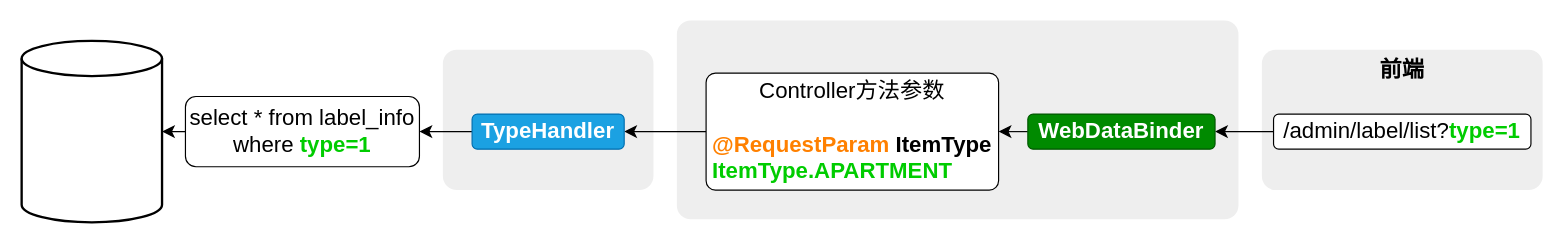
This 1562x243 diagram has some shape labels left out. The box of each missing label's shape, as (x1, y1, x2, y2) in pixels:
MybatisPlus: (442, 49, 653, 190)
SpirngMVC: (676, 20, 1238, 219)
数据库: (20, 39, 163, 223)
